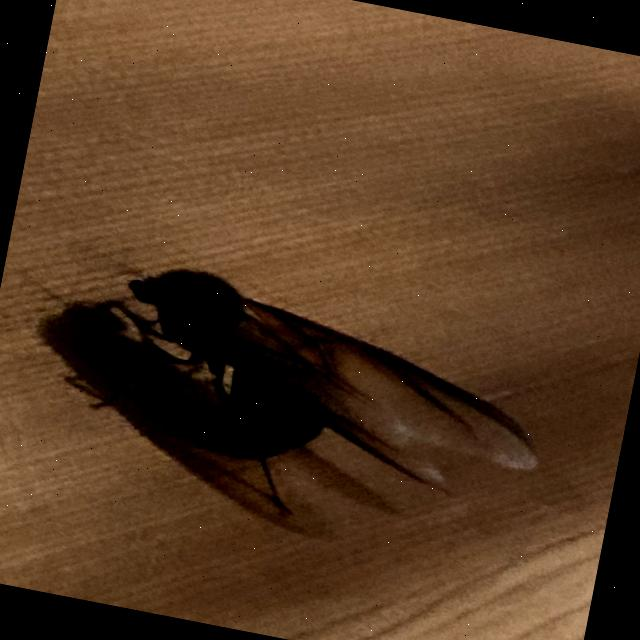Alive-Female-Alate: (59, 251, 565, 561)
